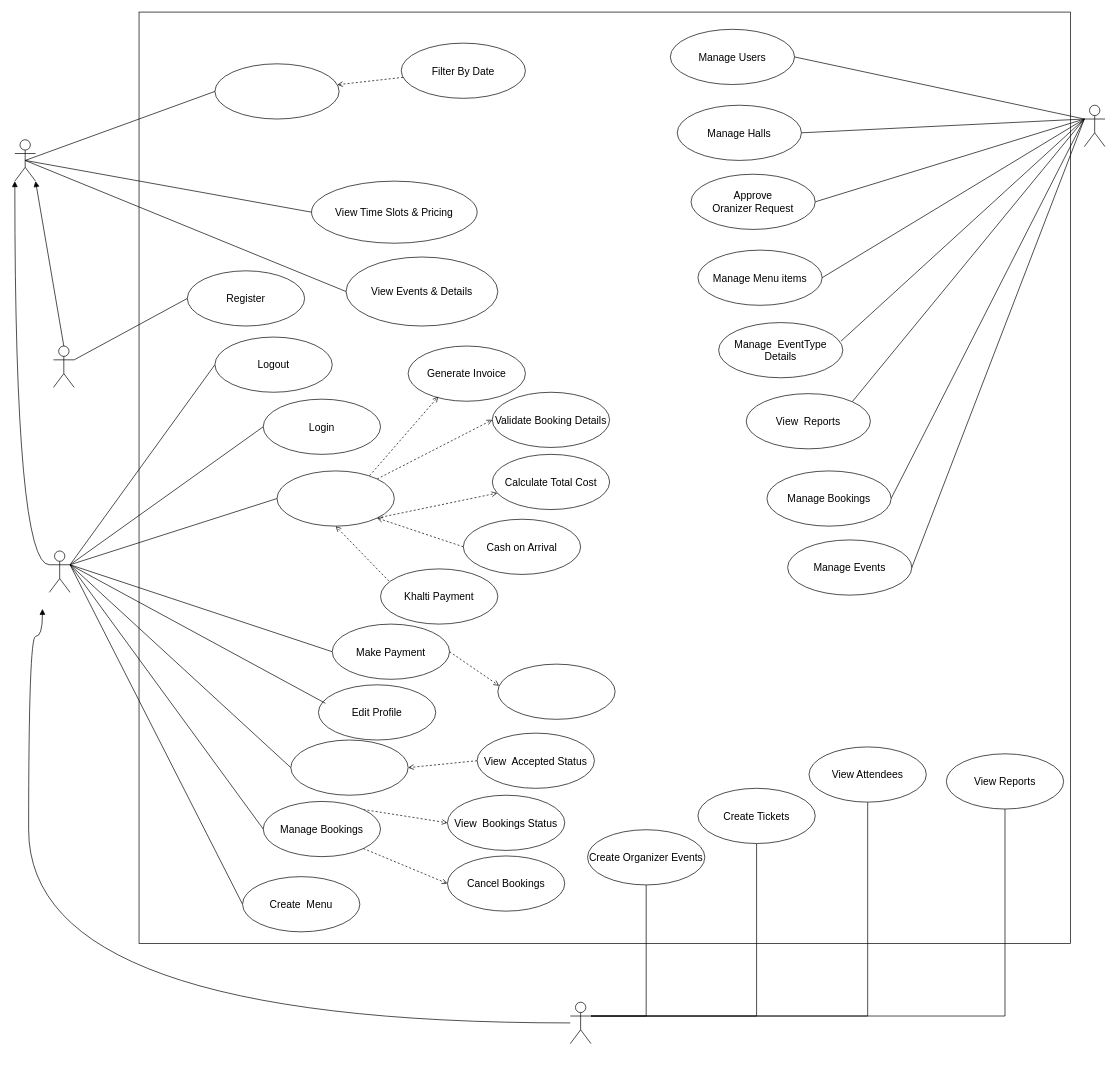
This 1118x1070 diagram has some shape labels left out. Here are the shapes that lost their labels. From the top down, the centre of each, then its label:
the point at 276,91: View Available Halls
the point at 1094,126: Admin
the point at 25,160: User
the point at 63,366: Unregistered User
the point at 335,498: Book Halls
the point at 59,571: Registerd User
the point at 556,691: Validate Payment Details
the point at 349,767: Submit Organizer Request
the point at 580,1023: Event Organizer
